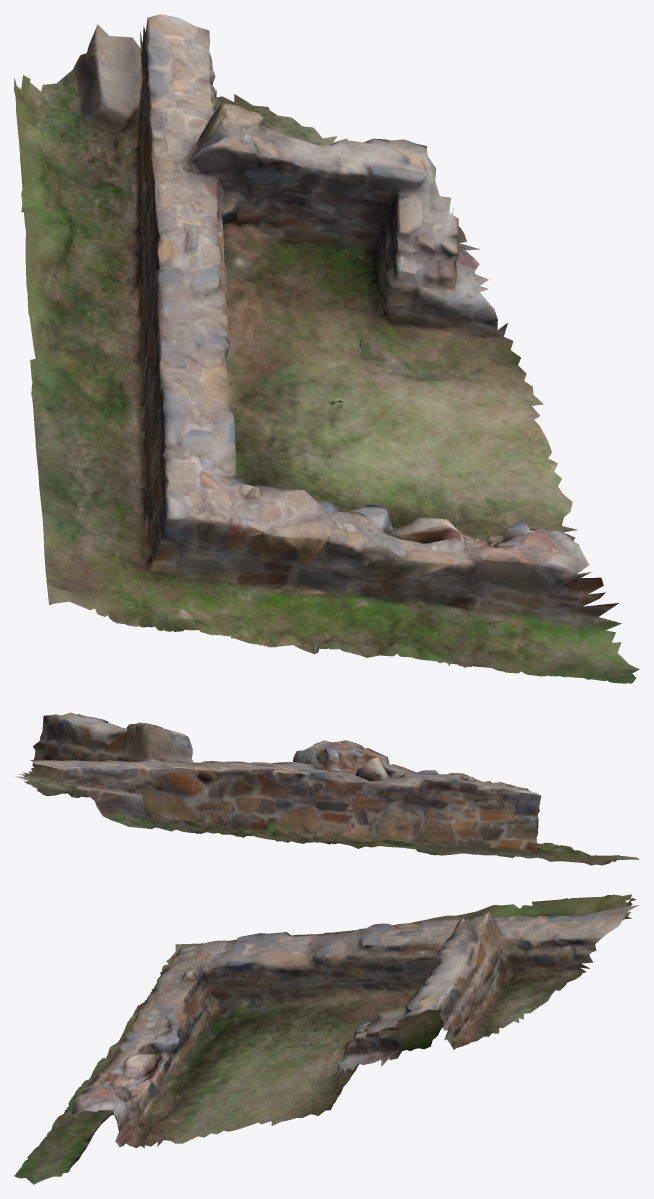
File: cpuzzle500_4.glb
The picture shows the model from 3 angles, top to bottom: view 1: azimuth 30°, elevation 25°; view 2: azimuth 150°, elevation 25°; view 3: azimuth 270°, elevation 25°; orthographic projection. The views are drawn at different scales.
Parts seen in each view (by area): view 1: Mesh_0.005; view 2: Mesh_0.005; view 3: Mesh_0.005.
Part boxes in pixels (x1,y1,x2,y2): Mesh_0.005: (14, 14, 639, 683); Mesh_0.005: (14, 712, 639, 865); Mesh_0.005: (14, 894, 639, 1184).
Size of the model in its own units: 13.11 by 7.73 by 17.66.
1 material, 1 textured.
